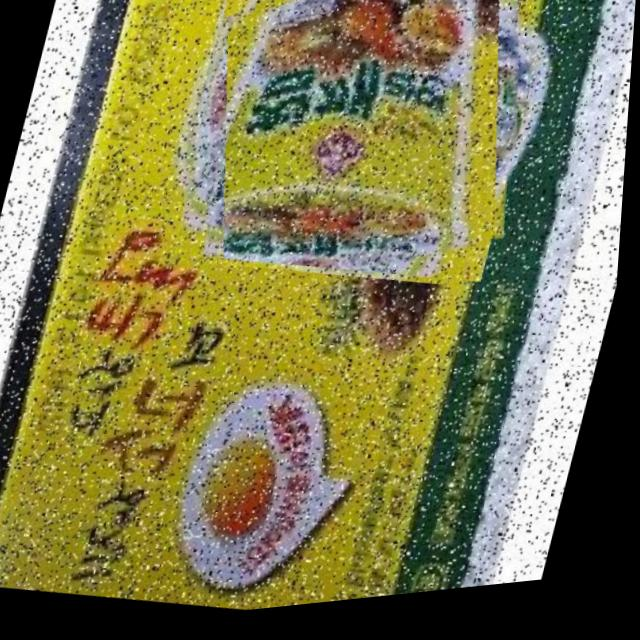Miscellaneous: (160, 0, 558, 319)
